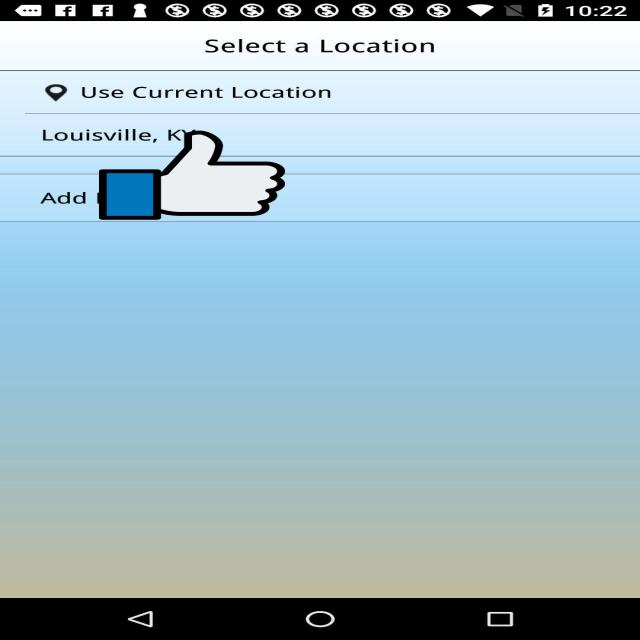privacy zuckering: (99, 128, 285, 222)
